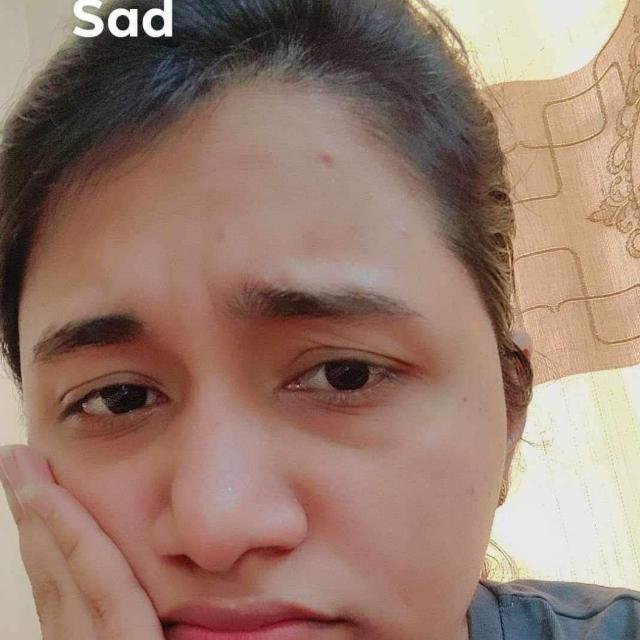Sad: (0, 69, 639, 640)
